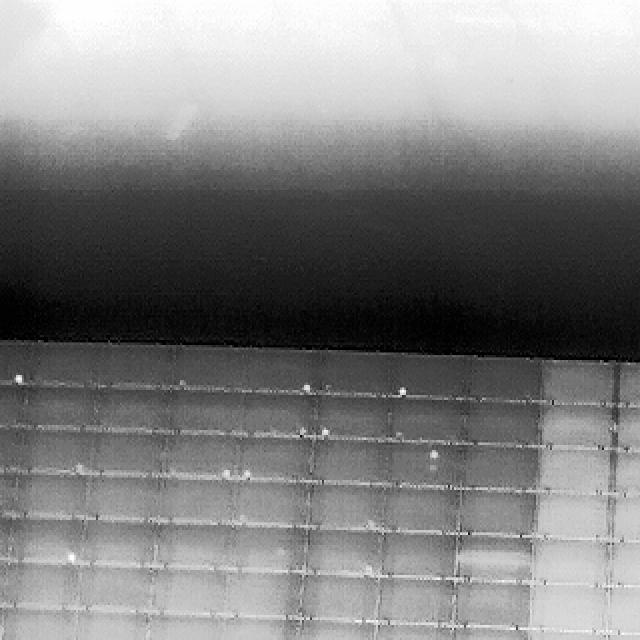Hotspots: (11, 368, 30, 387), (72, 461, 86, 475), (242, 467, 256, 481), (218, 468, 234, 480), (428, 450, 442, 463), (296, 425, 309, 438), (65, 549, 77, 563), (302, 382, 314, 395), (321, 422, 329, 437), (398, 388, 408, 398)
PV-modules: (2, 342, 98, 388), (0, 426, 90, 475), (0, 518, 84, 568), (0, 472, 87, 518), (2, 562, 84, 610), (152, 566, 230, 616), (77, 564, 154, 614), (306, 528, 383, 578), (380, 486, 460, 534), (374, 577, 454, 625), (460, 400, 540, 448), (92, 428, 170, 477), (377, 534, 456, 582), (319, 348, 399, 395), (452, 580, 530, 628), (84, 521, 160, 570), (235, 434, 312, 482), (160, 477, 237, 525), (166, 429, 243, 477), (458, 488, 538, 534), (461, 447, 541, 493), (392, 353, 472, 399), (233, 479, 308, 528), (302, 572, 380, 619), (308, 482, 381, 532), (530, 587, 606, 635), (456, 537, 532, 585), (469, 355, 544, 403), (311, 437, 386, 485), (92, 389, 170, 435), (539, 448, 610, 498), (166, 392, 243, 438), (241, 392, 319, 437), (6, 386, 84, 431), (100, 344, 178, 389), (538, 359, 614, 405), (158, 525, 237, 569), (537, 406, 612, 452), (391, 398, 466, 444), (537, 538, 610, 585), (230, 570, 303, 617), (234, 527, 305, 575), (88, 476, 164, 520), (314, 397, 390, 441), (244, 347, 318, 392), (537, 492, 608, 538), (172, 345, 243, 390), (0, 607, 78, 640), (384, 445, 441, 488), (74, 610, 148, 640), (218, 615, 300, 640), (148, 615, 224, 640), (602, 588, 640, 638), (296, 617, 372, 640), (608, 492, 640, 542), (606, 542, 640, 588), (370, 620, 448, 640), (610, 452, 640, 500), (614, 405, 640, 455), (448, 625, 528, 640), (616, 360, 640, 402), (526, 630, 604, 640), (604, 632, 640, 640)
